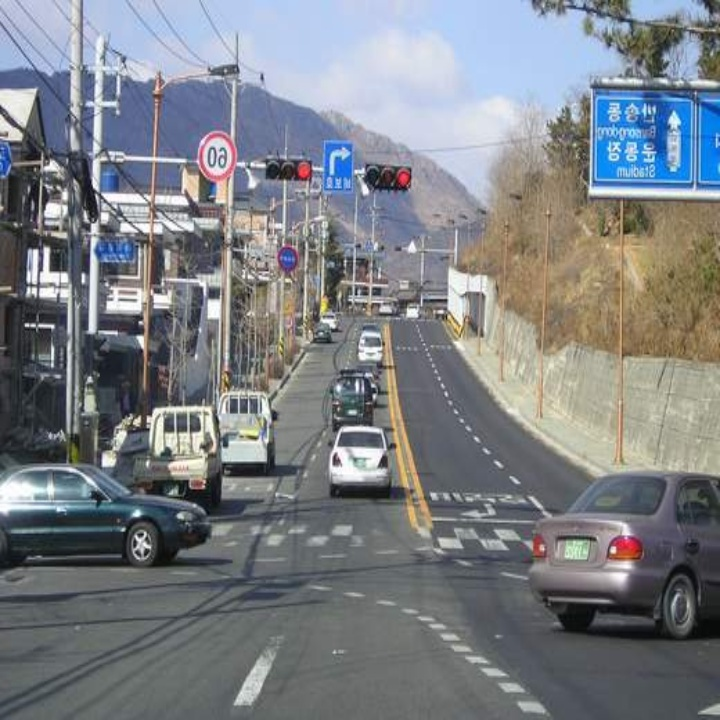right: (323, 144, 353, 177)
